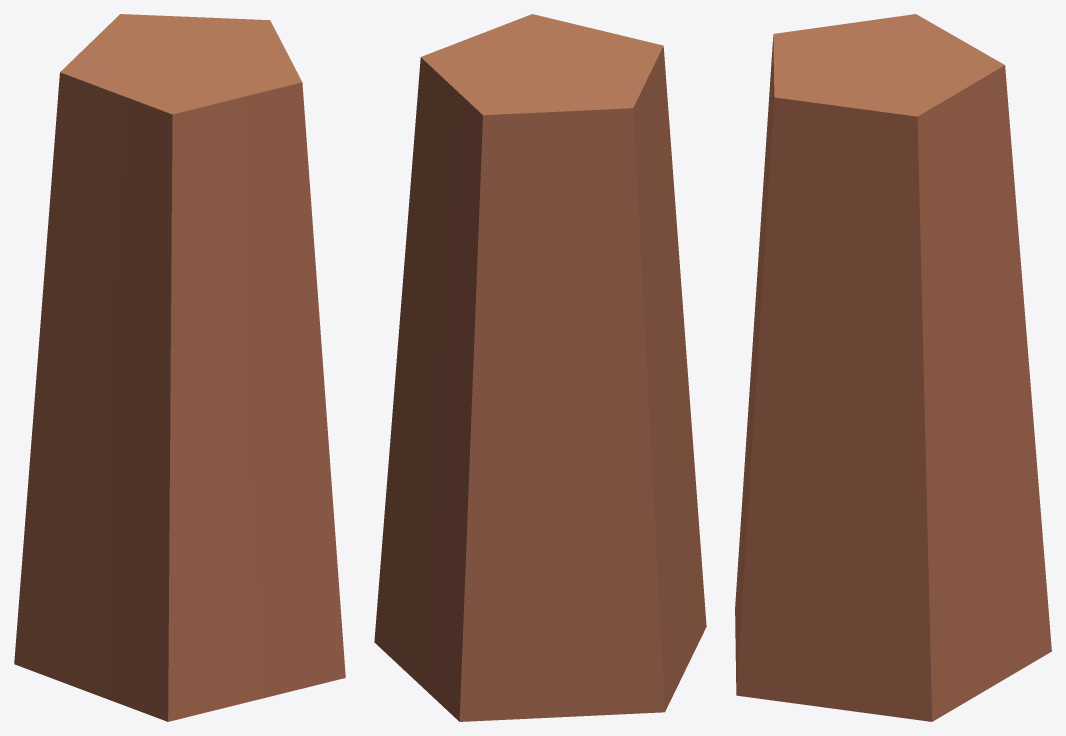
The model's file is kaykit-medieval-hexagon-pack-tree-single-a-cut.glb.
3 renders of one model, left to right at view 1: azimuth 30°, elevation 25°; view 2: azimuth 150°, elevation 25°; view 3: azimuth 270°, elevation 25°, orthographic.
Visible parts, largest first — view 1: tree_single_A_cut; view 2: tree_single_A_cut; view 3: tree_single_A_cut.
Part boxes in pixels (x1,y1,x2,y2): tree_single_A_cut: (14, 14, 345, 721); tree_single_A_cut: (374, 14, 706, 721); tree_single_A_cut: (735, 14, 1051, 721).
Size of the model in its own units: 0.1697 by 0.3302 by 0.1617.
Materials: 1 (1 with a texture image).
